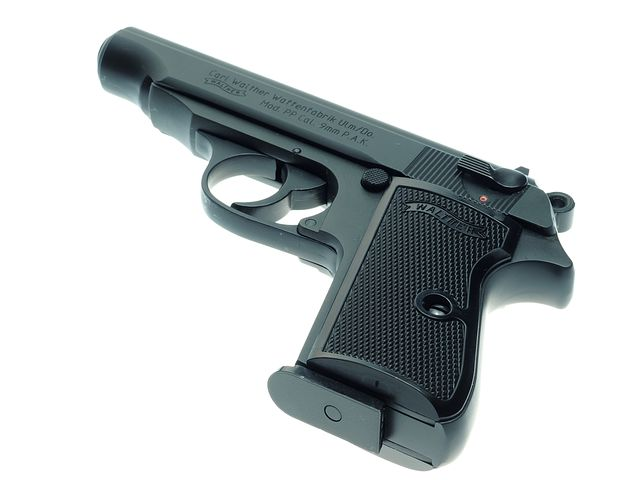gun: (94, 21, 589, 477)
